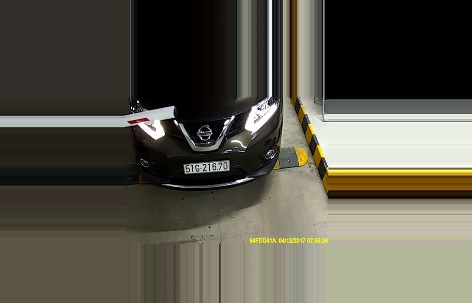plate: (183, 160, 229, 173)
